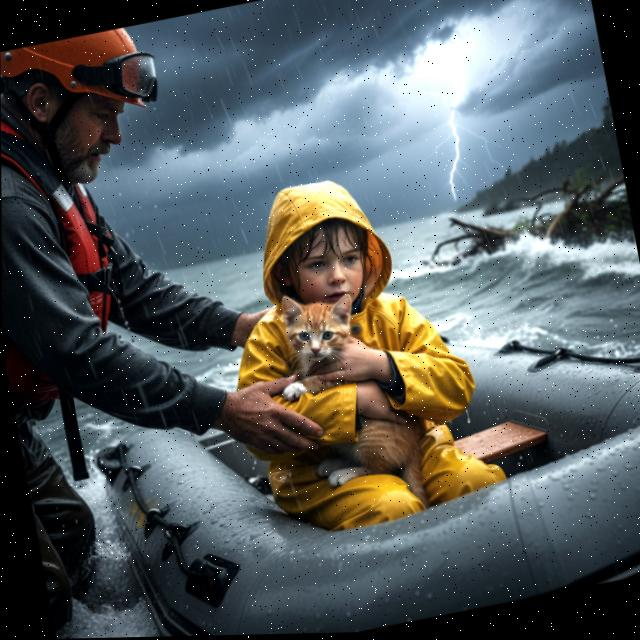cat: (255, 268, 438, 521)
civilian: (203, 146, 501, 553)
rescuer: (0, 1, 345, 621)
